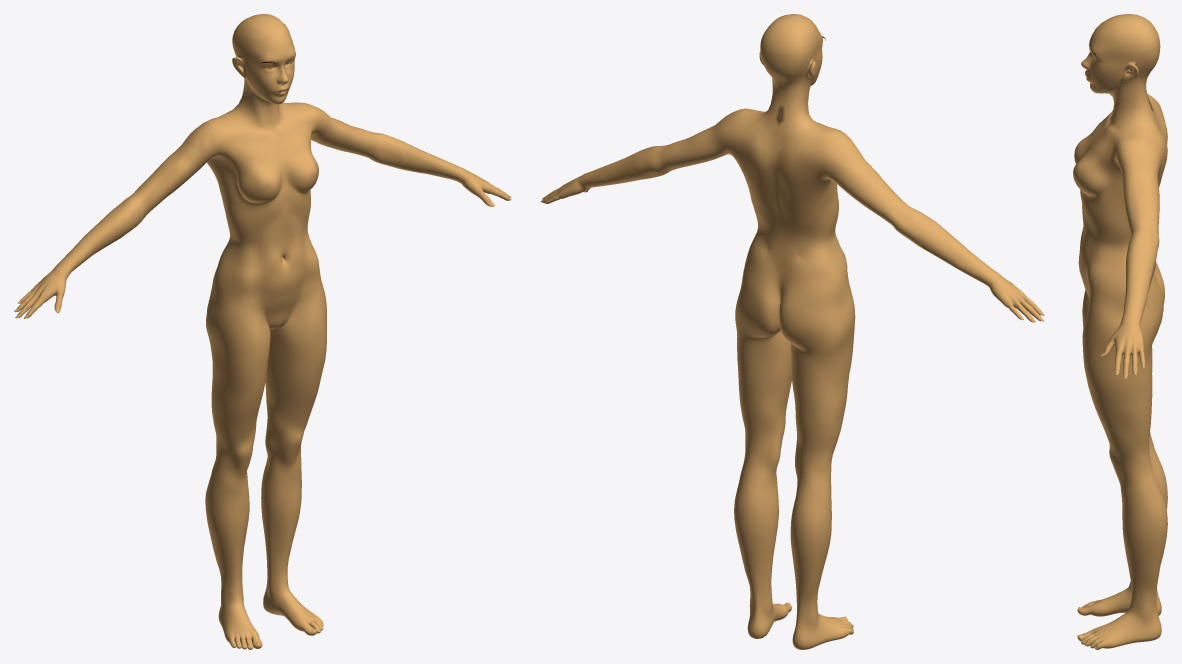
File: female_XS_3.glb
3 views of the same model, side by side, from view 1: azimuth 30°, elevation 25°; view 2: azimuth 150°, elevation 25°; view 3: azimuth 270°, elevation 25° (orthographic).
Visible parts, largest first — view 1: Body; view 2: Body; view 3: Body.
Boxes of the visible parts, box(x1,y1,x2,y2) form: Body: box(16, 14, 511, 649); Body: box(542, 14, 1041, 649); Body: box(1073, 14, 1167, 649).
Bounding box in the file's own units: 1.58 × 1.85 × 0.2597.
